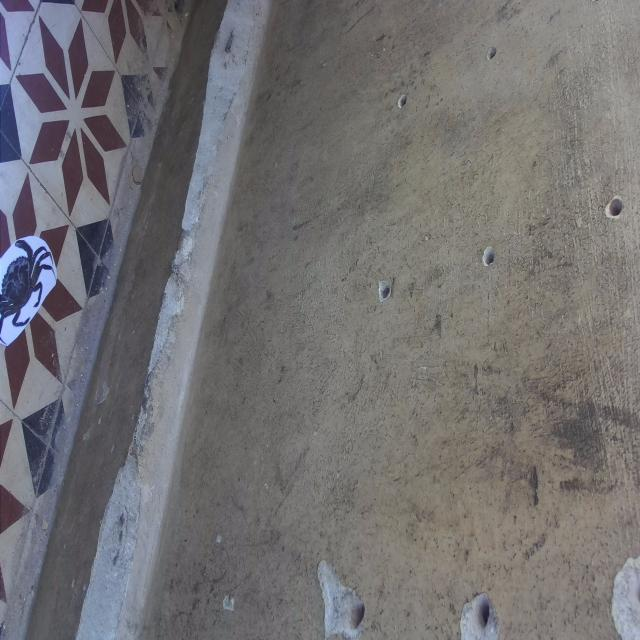European_Green_Crab: (0, 216, 61, 356)
